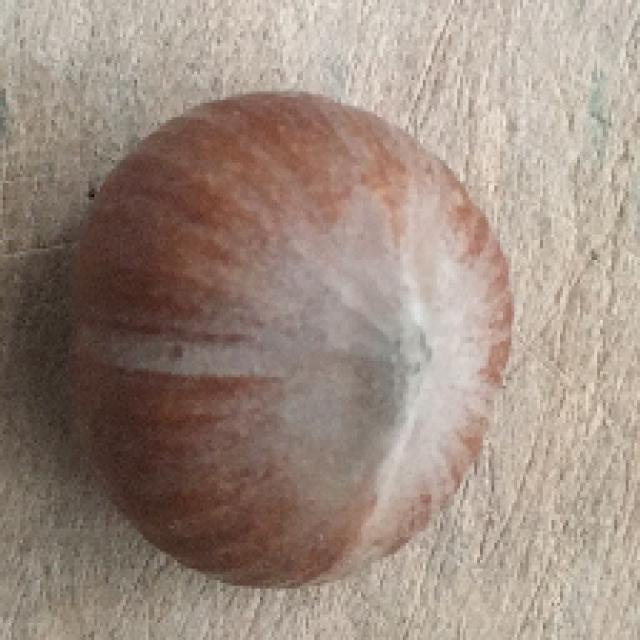qualityHazelnut: (70, 93, 512, 586)
